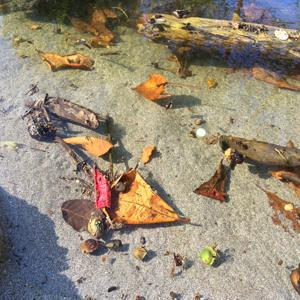plastic: (87, 172, 112, 211)
